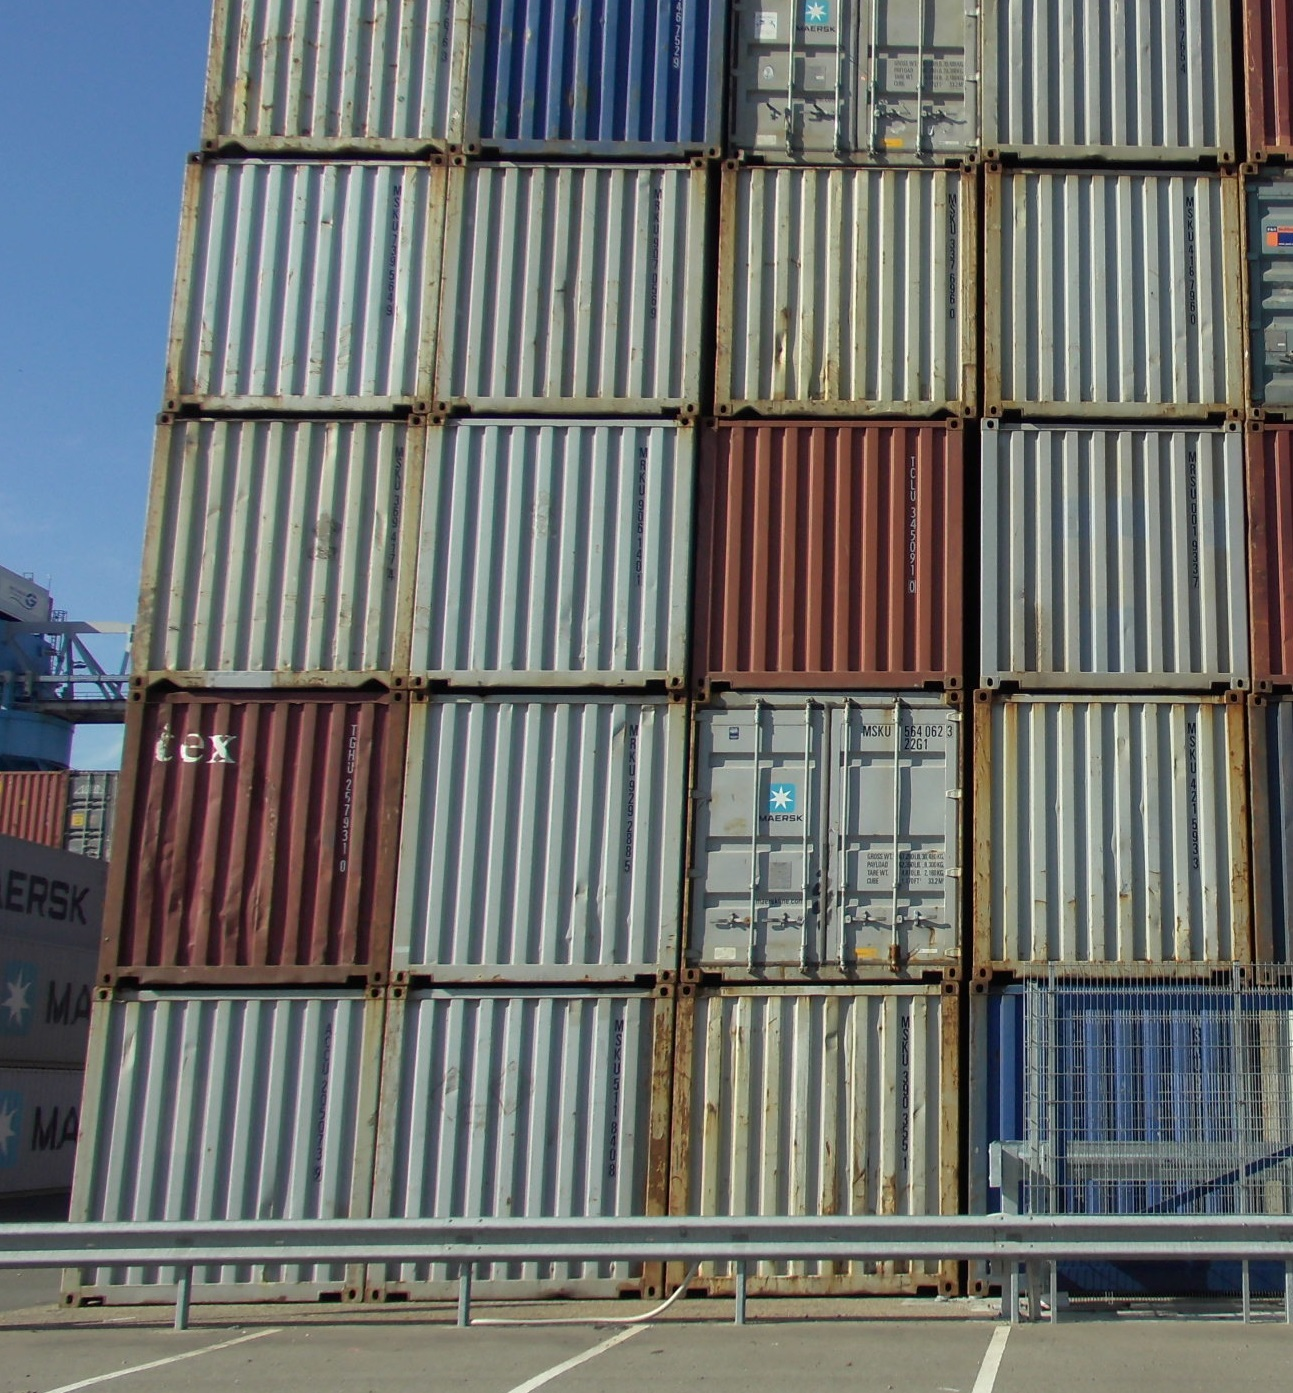container_door: (678, 695, 978, 974), (719, 1, 988, 160)
container_no_door: (53, 985, 371, 1314), (661, 980, 973, 1301), (374, 976, 687, 1297), (97, 688, 401, 976), (132, 408, 420, 693), (403, 686, 681, 980), (976, 416, 1254, 695), (976, 695, 1253, 974), (412, 410, 687, 689), (695, 414, 972, 688), (169, 152, 444, 414), (983, 160, 1246, 418), (712, 160, 979, 412), (452, 146, 706, 406), (989, 1, 1237, 165), (197, 1, 470, 150), (457, 1, 730, 150)
